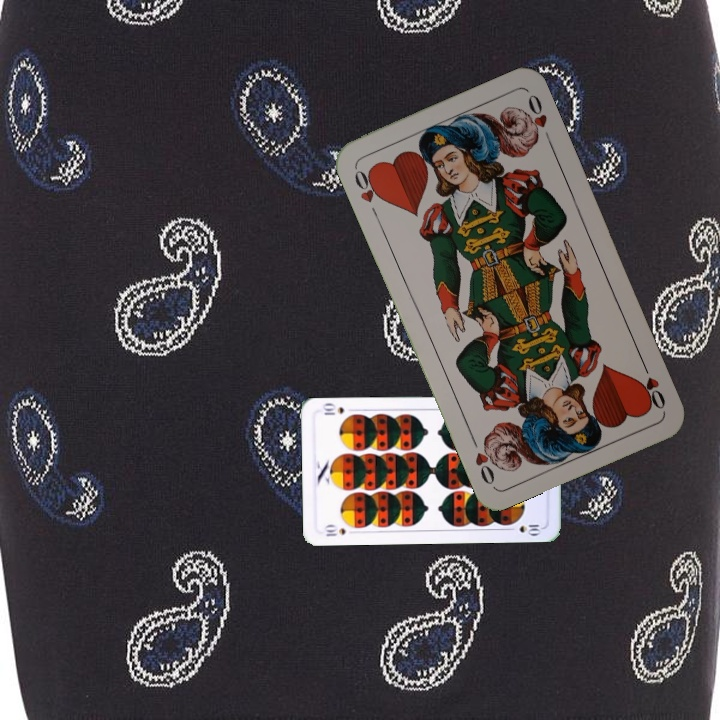HO: (350, 164, 385, 220), (637, 357, 668, 412)
S10: (321, 521, 348, 539)
